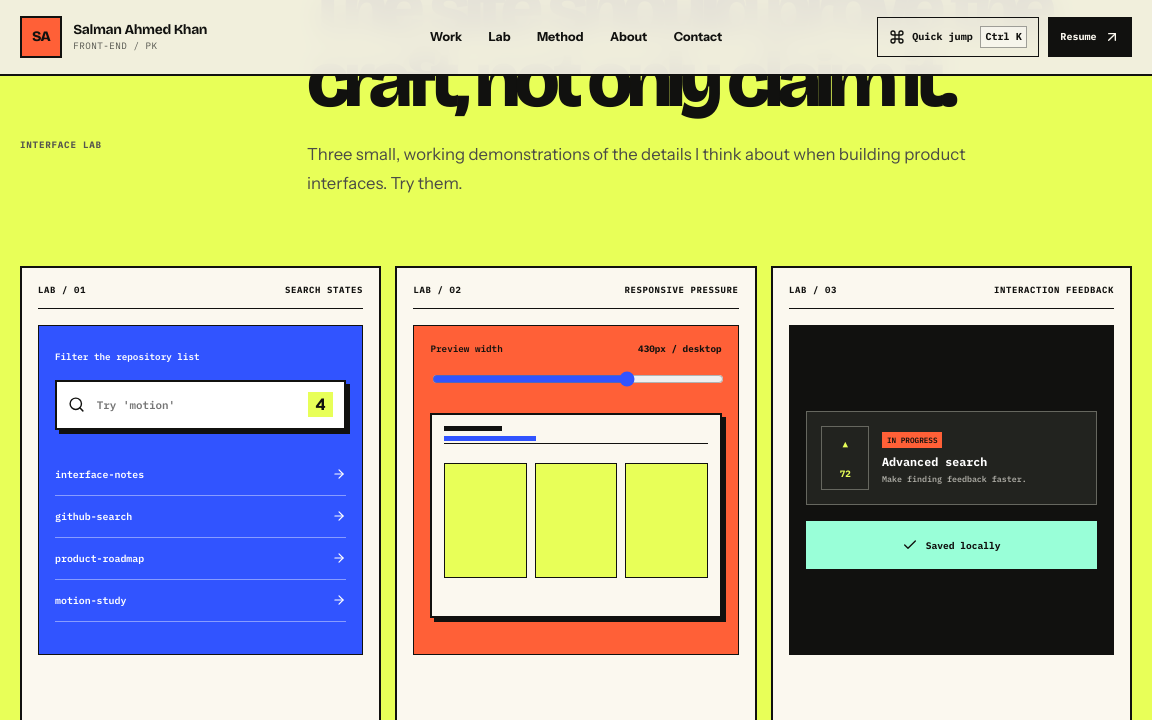
interface lab controls provide immediate state feedback
(page scrolled)
Type "motion" into the field labelled "Filter the repository list" at [197, 405], box left=95, top=397, right=298, bottom=413
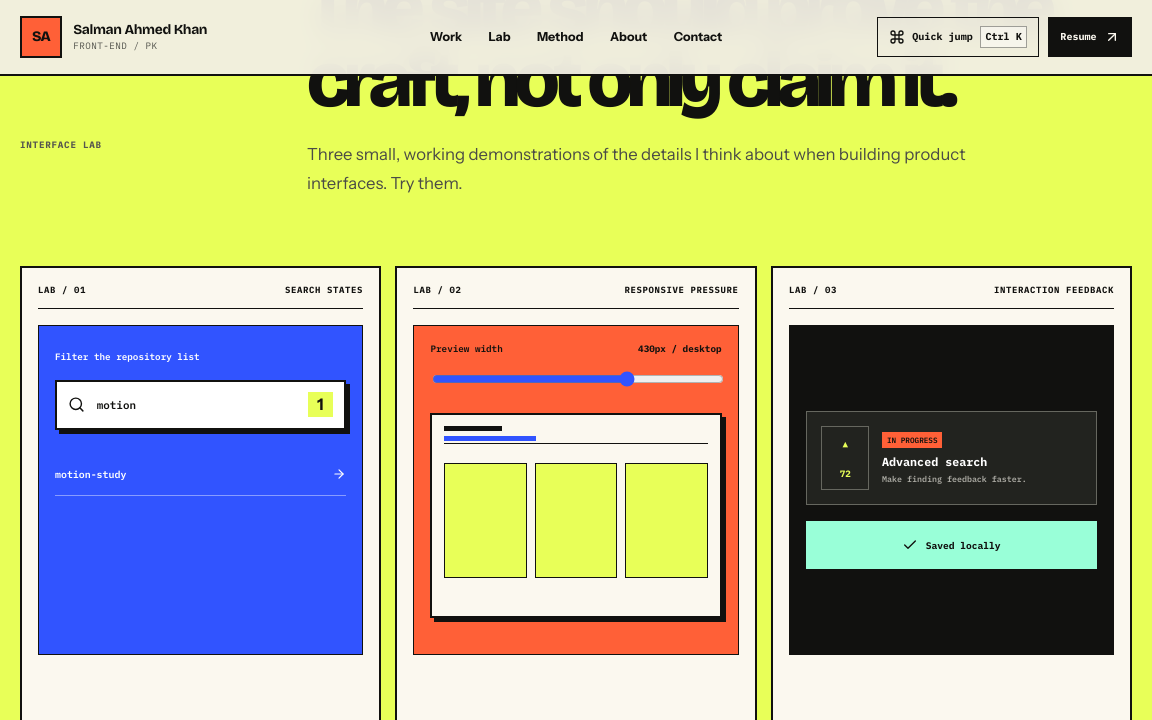
Check: the text "motion-study" is shown, box left=55, top=454, right=346, bottom=496
Check: the text "interface-notes" is gone
Click the button "▲ 72" at [845, 458], box left=821, top=426, right=869, bottom=490
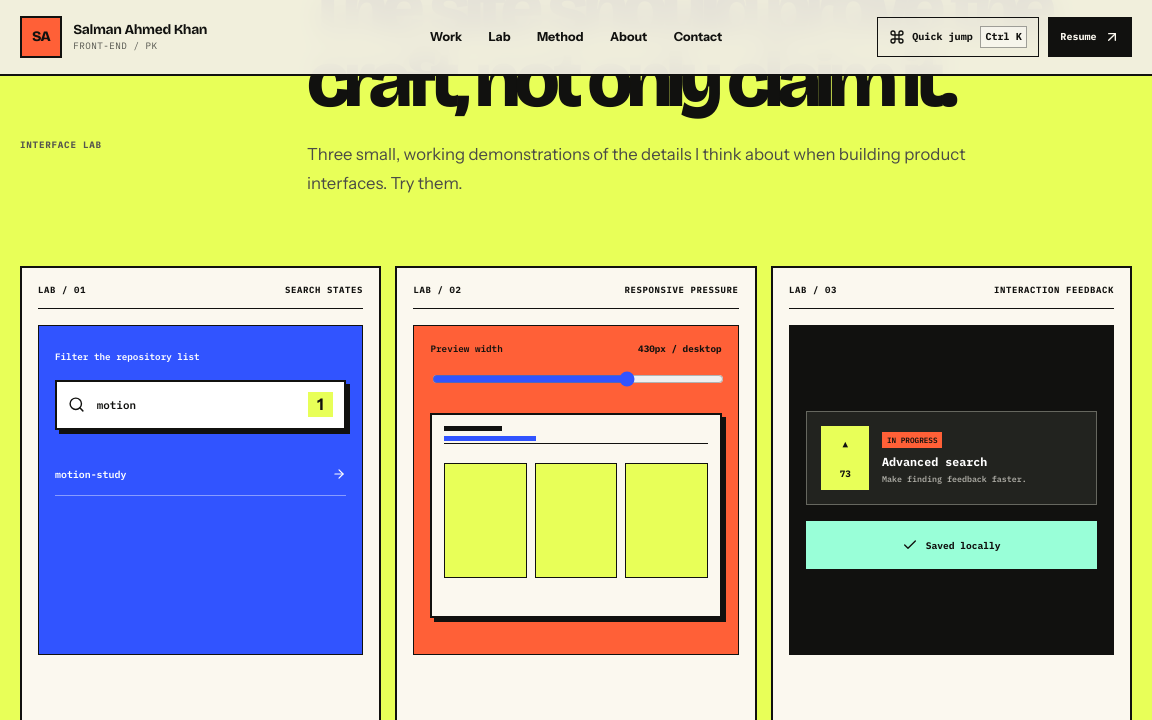
Check: the button "▲ 73" is pressed, box left=821, top=426, right=869, bottom=490
Set the slider labelled "Preview width" to "280" at [480, 379], box left=432, top=371, right=724, bottom=387
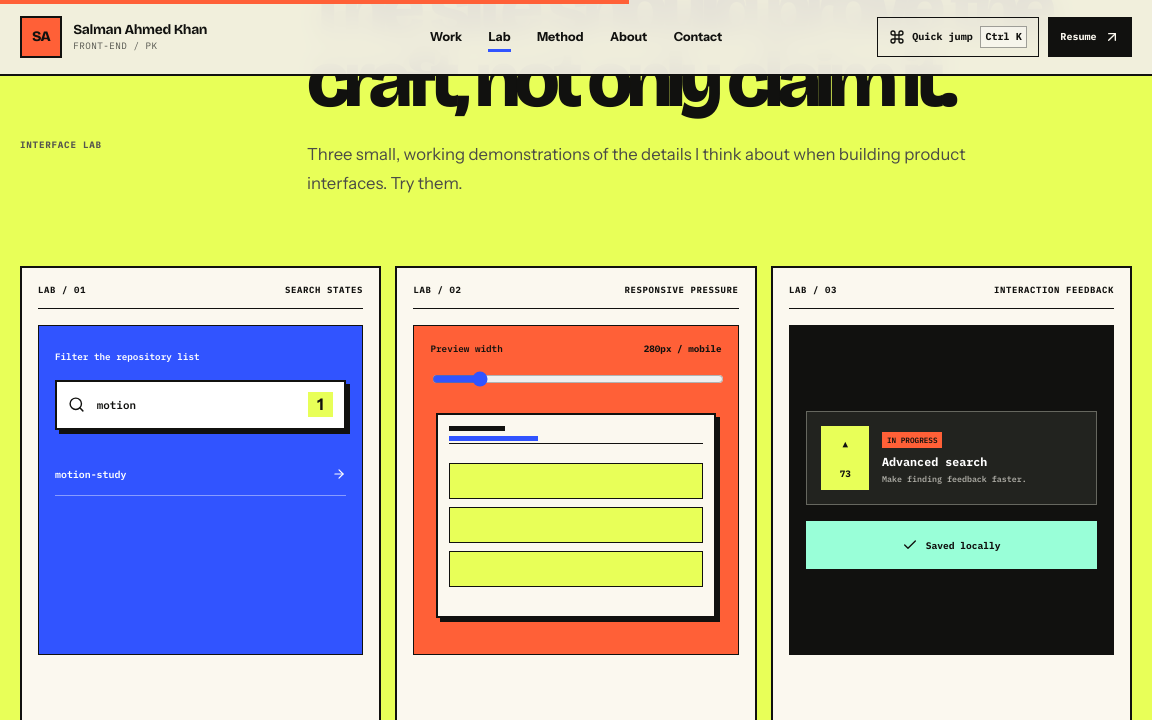
Check: the text "280px / mobile" is shown, box left=644, top=342, right=722, bottom=355
